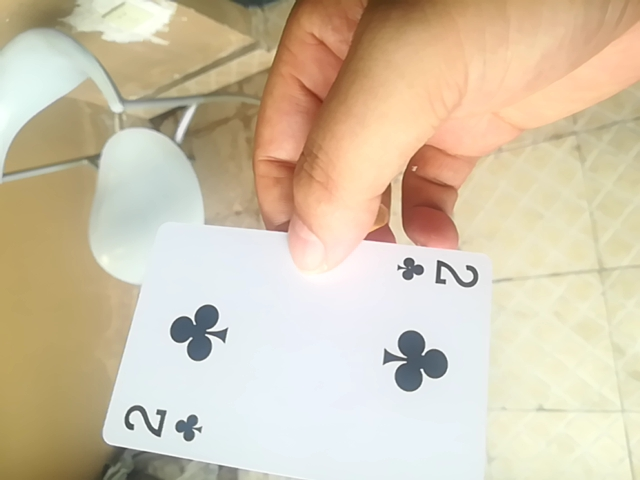mh 2: (99, 220, 498, 480)
